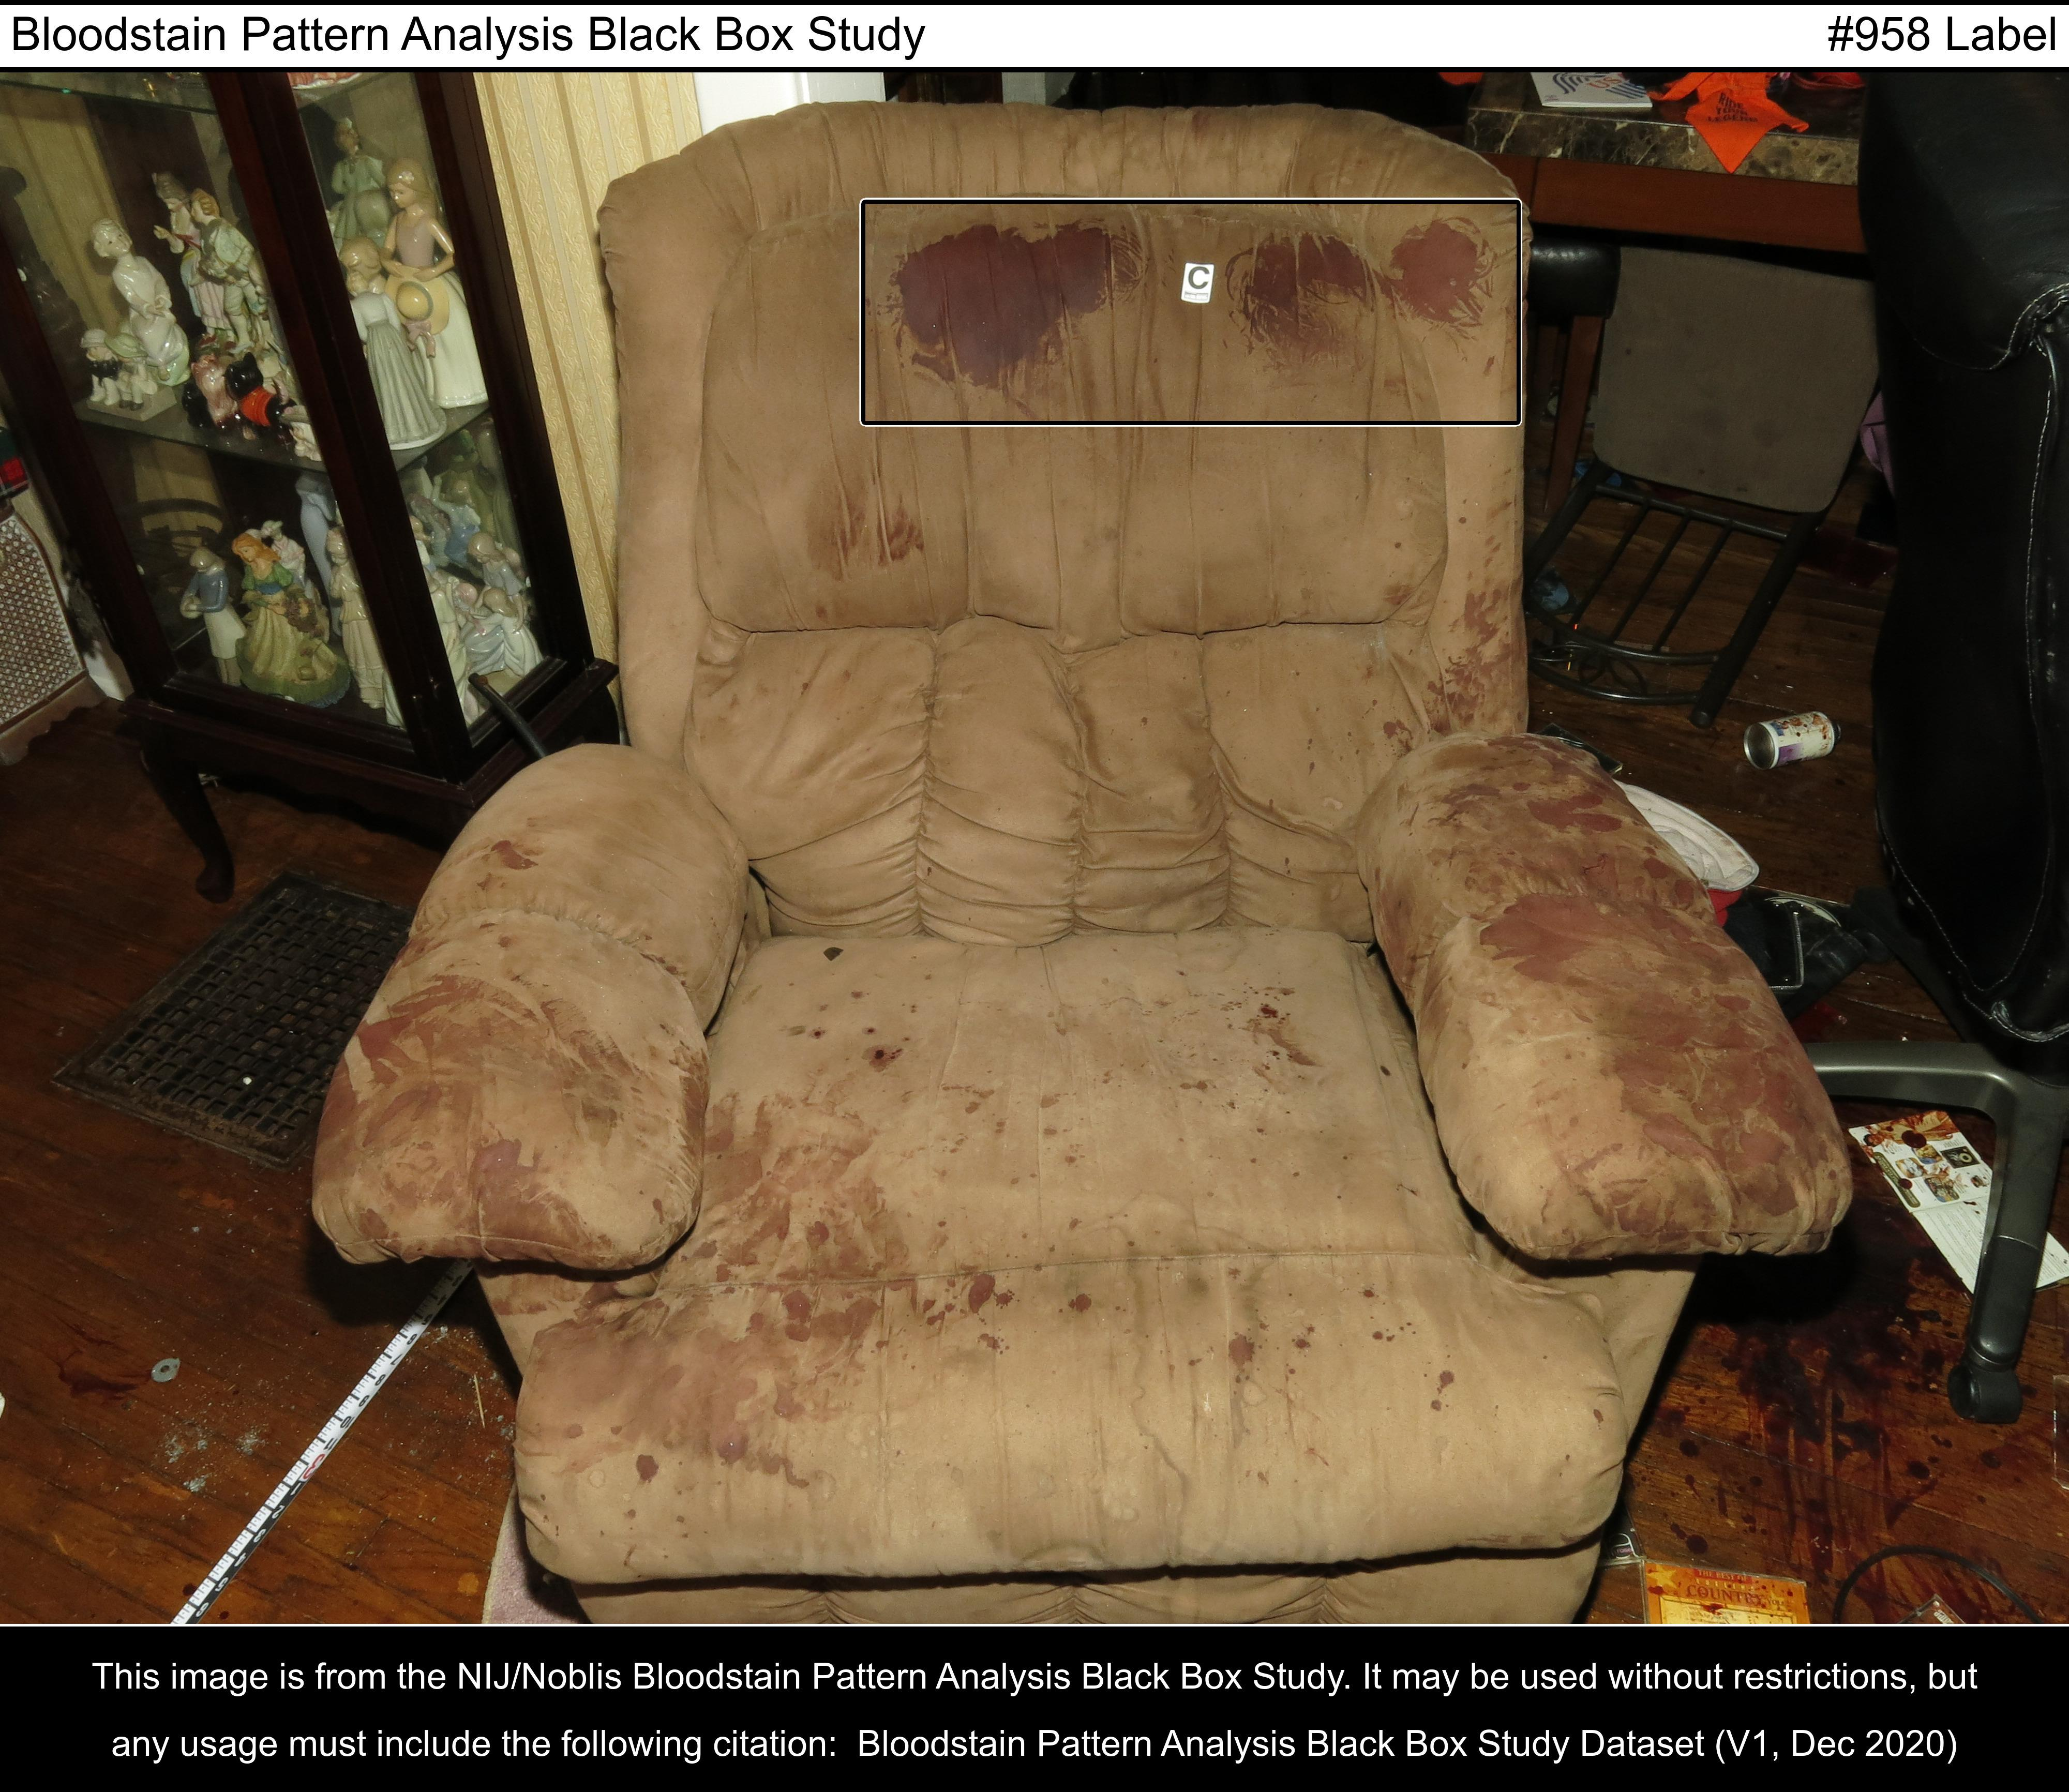Transfer: (528, 1045, 1036, 1488), (864, 200, 1518, 422)
